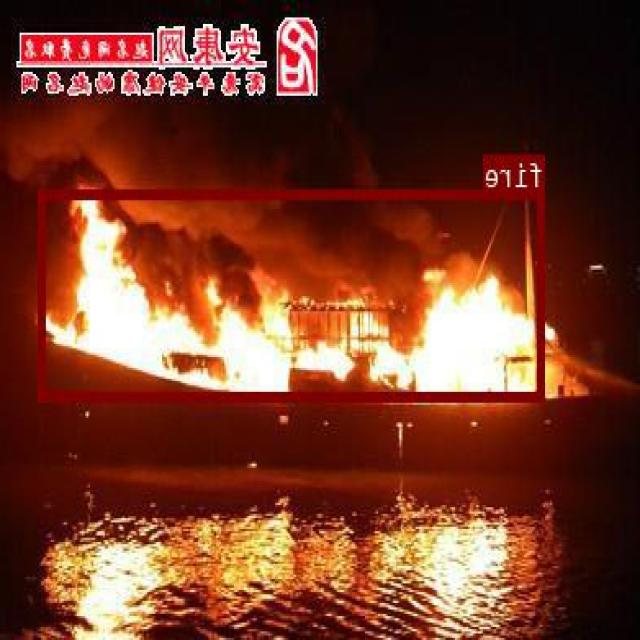fire: (40, 189, 545, 400)
